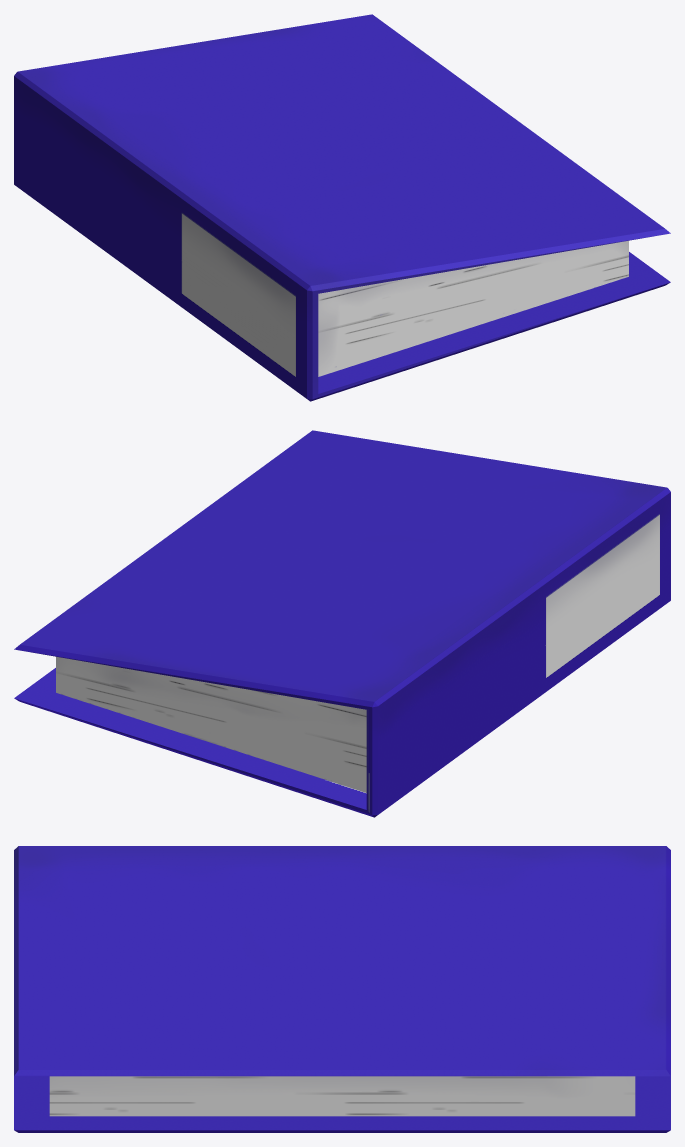
File: DocFolder_003.fbx
The picture shows the model from 3 angles, top to bottom: view 1: azimuth 30°, elevation 25°; view 2: azimuth 150°, elevation 25°; view 3: azimuth 270°, elevation 25°; orthographic projection. The views are drawn at different scales.
Visible parts, largest first — view 1: DocFolder_003; view 2: DocFolder_003; view 3: DocFolder_003.
Part boxes in pixels (x1,y1,x2,y2): DocFolder_003: (14,14,670,401); DocFolder_003: (14,430,670,817); DocFolder_003: (14,846,670,1132).
Bounding box in the file's own units: 25.83 × 7.88 × 36.71.
Materials: 1 (1 with a texture image).
